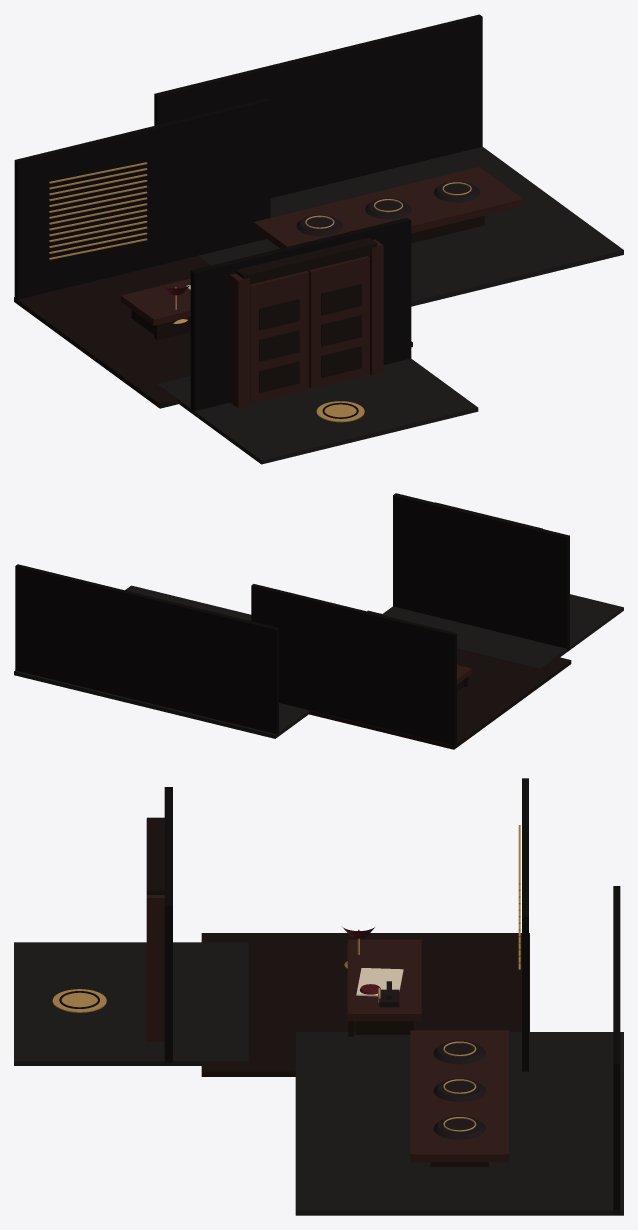
File: estate-core-high.glb
3 views of the same model, one above another, from view 1: azimuth 30°, elevation 25°; view 2: azimuth 150°, elevation 25°; view 3: azimuth 270°, elevation 25° (orthographic). The views are drawn at different scales.
Parts seen in each view (by area): view 1: StudyBackWall, CouncilBackWall, CouncilFloor, ThresholdFloor, StudyFloor, ThresholdWall, CouncilTableTop, ThresholdDoorRightPanel, ThresholdDoorLeftPanel, ThresholdPillarLeft, ThresholdLintel, StudyDeskTop (+12 smaller); view 2: CouncilBackWall, StudyBackWall, ThresholdWall, StudyFloor, ThresholdFloor, CouncilFloor; view 3: CouncilFloor, ThresholdFloor, StudyFloor, CouncilTableTop, StudyDeskTop, ThresholdPillarRight, CouncilBackWall, ThresholdWall, StudyBackWall, ThresholdLintel, ThresholdMonogram, AnchorAgalaUIPlinth (+4 smaller).
Boxes of the visible parts, left/top/right/bottom form: StudyBackWall: left=14, top=98, right=270, bottom=303; CouncilBackWall: left=154, top=14, right=482, bottom=198; CouncilFloor: left=198, top=146, right=623, bottom=306; ThresholdFloor: left=157, top=358, right=478, bottom=464; StudyFloor: left=14, top=256, right=412, bottom=408; ThresholdWall: left=190, top=217, right=411, bottom=414; CouncilTableTop: left=253, top=167, right=523, bottom=248; ThresholdDoorRightPanel: left=307, top=256, right=369, bottom=388; ThresholdDoorLeftPanel: left=250, top=271, right=308, bottom=403; ThresholdPillarLeft: left=230, top=273, right=249, bottom=408; ThresholdLintel: left=236, top=237, right=377, bottom=284; StudyDeskTop: left=121, top=278, right=190, bottom=325; CouncilBackWall: left=15, top=564, right=278, bottom=735; StudyBackWall: left=251, top=584, right=456, bottom=748; ThresholdWall: left=393, top=493, right=569, bottom=651; StudyFloor: left=309, top=610, right=571, bottom=749; ThresholdFloor: left=381, top=594, right=623, bottom=668; CouncilFloor: left=14, top=585, right=308, bottom=738; CouncilFloor: left=295, top=1032, right=623, bottom=1215; ThresholdFloor: left=14, top=942, right=248, bottom=1065; StudyFloor: left=201, top=933, right=529, bottom=1076; CouncilTableTop: left=410, top=1030, right=508, bottom=1162; StudyDeskTop: left=347, top=939, right=421, bottom=1021; ThresholdPillarRight: left=146, top=892, right=164, bottom=1041; CouncilBackWall: left=613, top=886, right=620, bottom=1212; ThresholdWall: left=164, top=787, right=172, bottom=1064; StudyBackWall: left=522, top=778, right=528, bottom=1071; ThresholdLintel: left=147, top=817, right=164, bottom=894; ThresholdMonogram: left=52, top=989, right=106, bottom=1012; AnchorAgalaUIPlinth: left=433, top=1040, right=485, bottom=1064.
Size of the model in its own units: 28 by 7.57 by 26.
